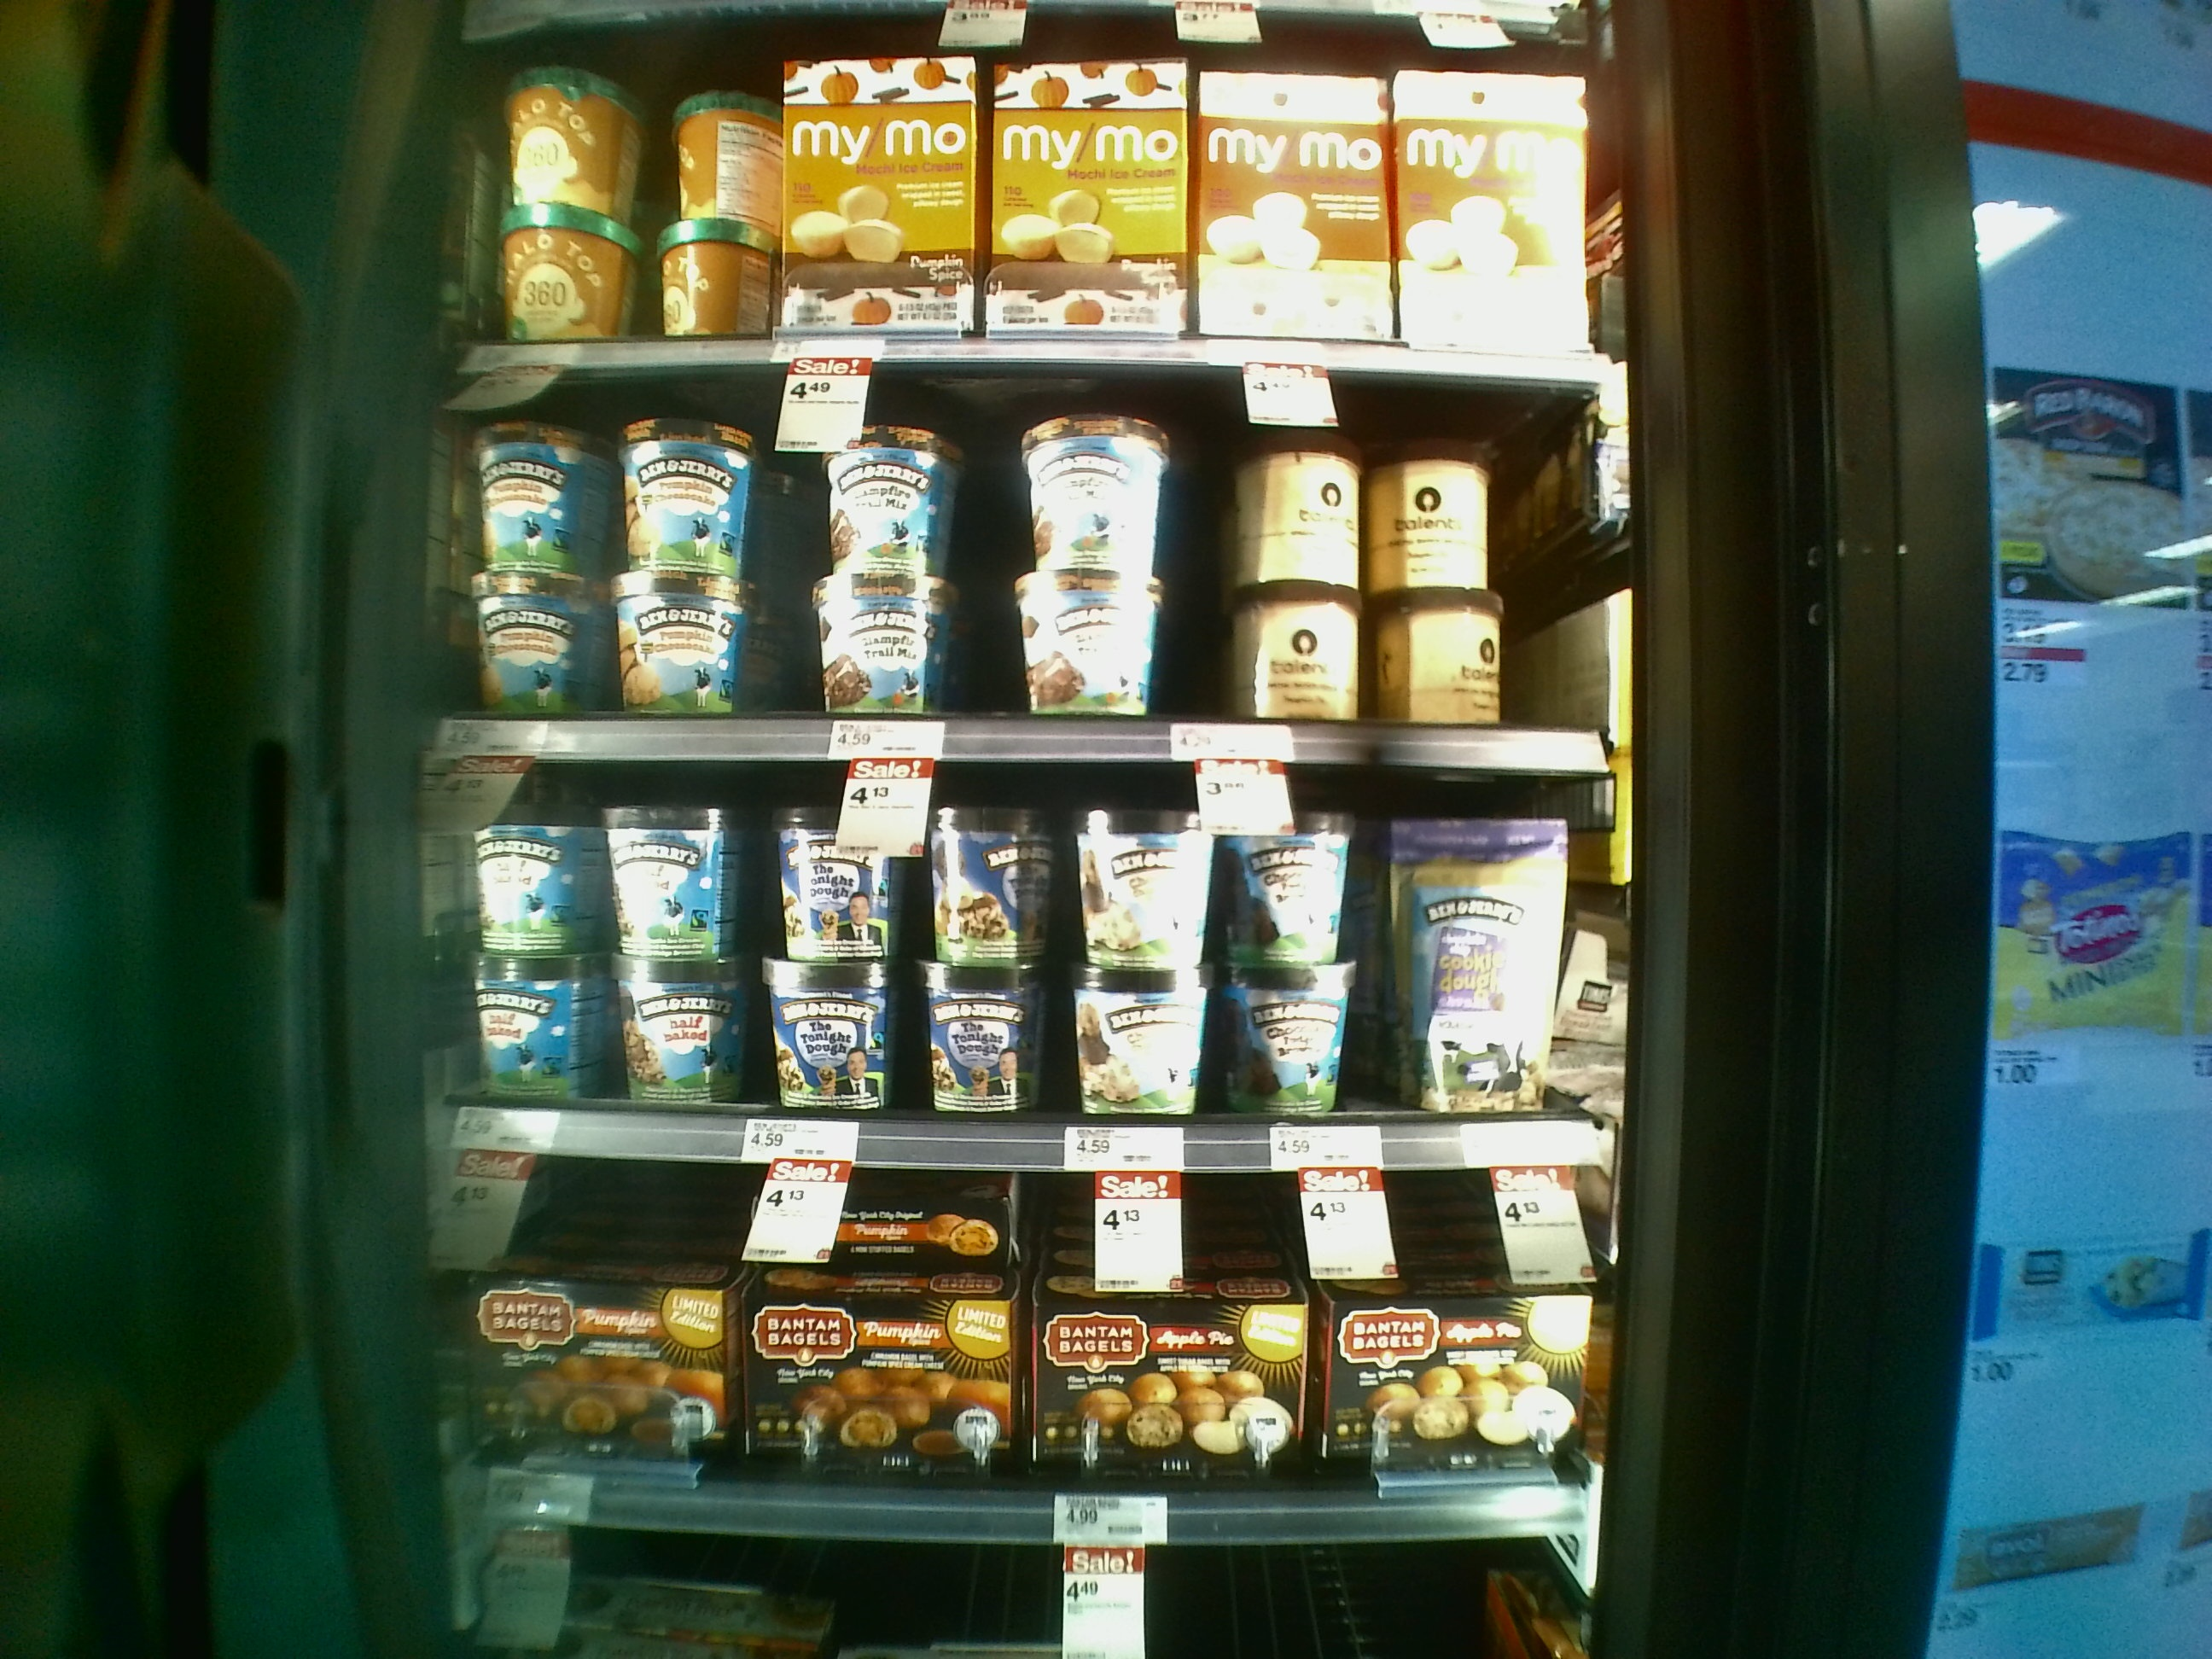shelf: (425, 732, 1616, 1185), (425, 357, 1609, 770), (435, 1150, 1594, 1544)
